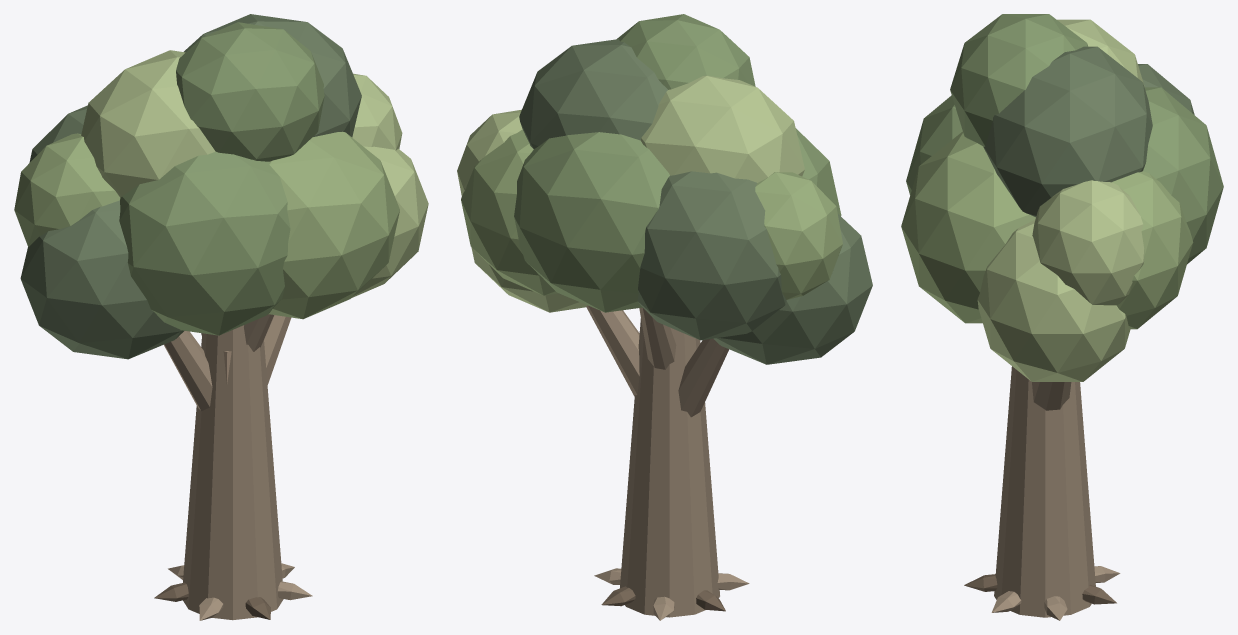
Rendered from tree-oak-small.glb.
3 renders of one model, left to right at view 1: azimuth 30°, elevation 25°; view 2: azimuth 150°, elevation 25°; view 3: azimuth 270°, elevation 25°, orthographic.
Visible parts, largest first — view 1: tree-oak-small; view 2: tree-oak-small; view 3: tree-oak-small.
Part boxes in pixels (<box>): tree-oak-small: <box>14,14,428,620</box>; tree-oak-small: <box>457,14,872,620</box>; tree-oak-small: <box>901,14,1223,620</box>.
Bounding box in the file's own units: 3.65 × 5.22 × 2.64.
